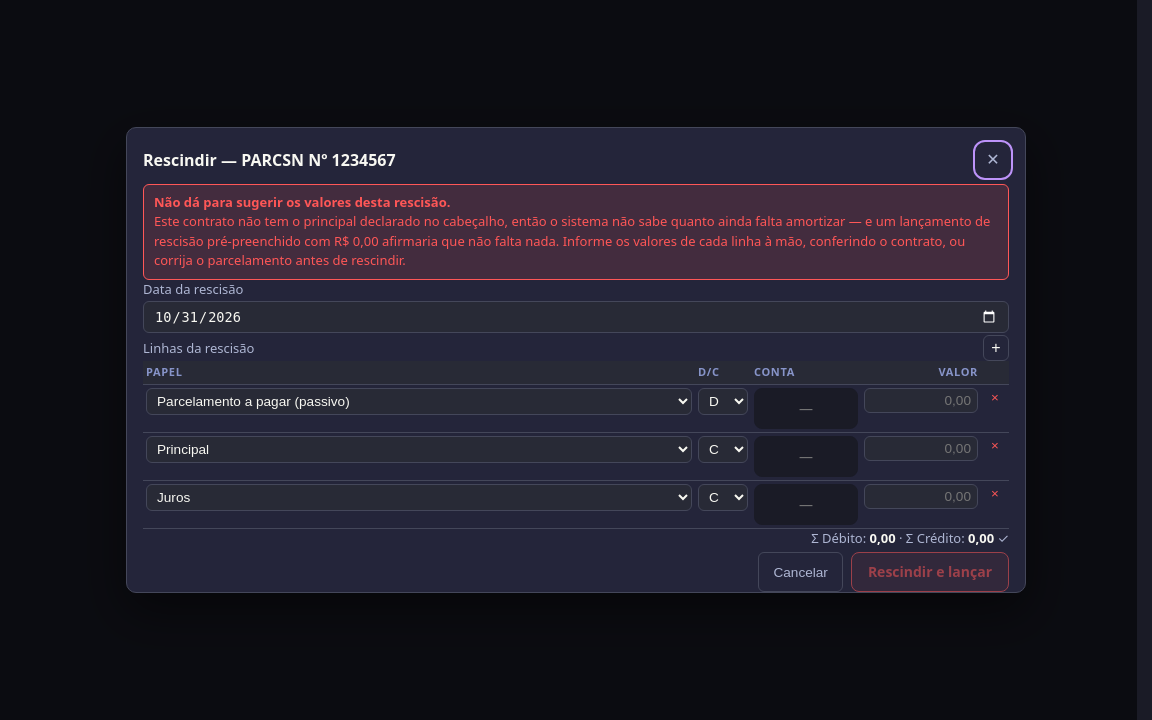
Test case: ⚠ o gate do botão › valor ilegível BLOQUEIA — antes ele virava 0 em silêncio
The width and height of the screenshot is (1152, 720).
Type "12.000" into the 1st field with placeholder "0,00" at (921, 400), box x1=864 y1=388 x2=978 y2=413
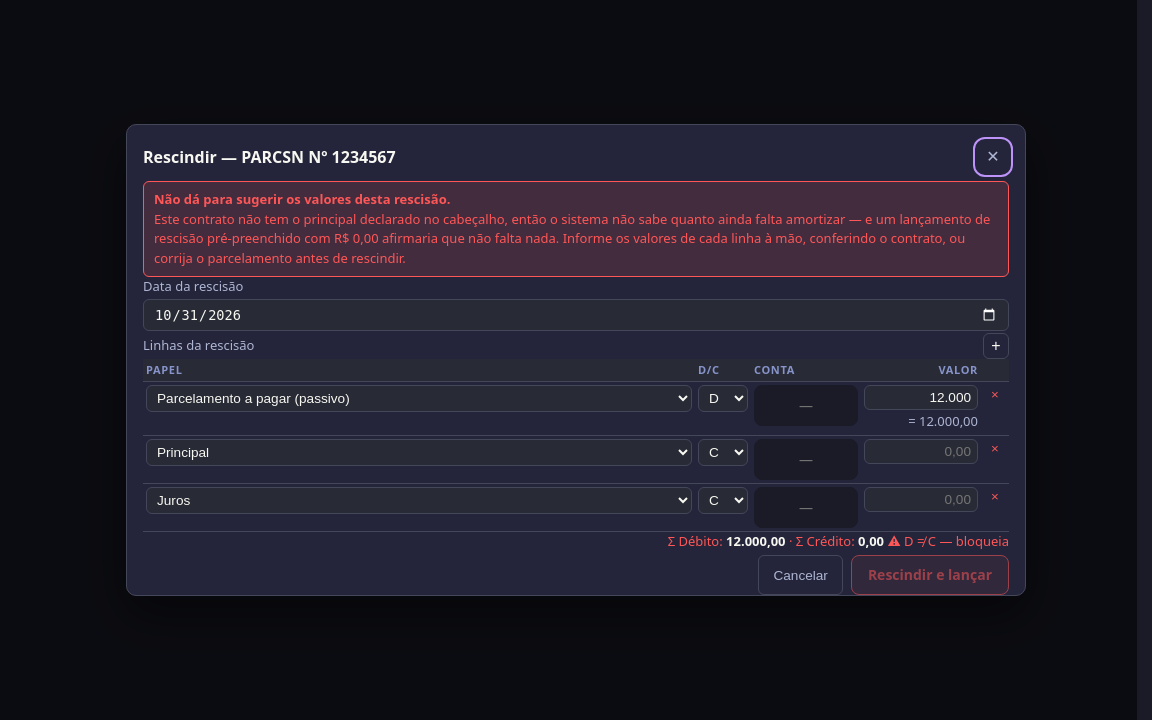
Type "10.000" into the 1st field with placeholder "0,00" at (921, 451), box x1=864 y1=438 x2=978 y2=464
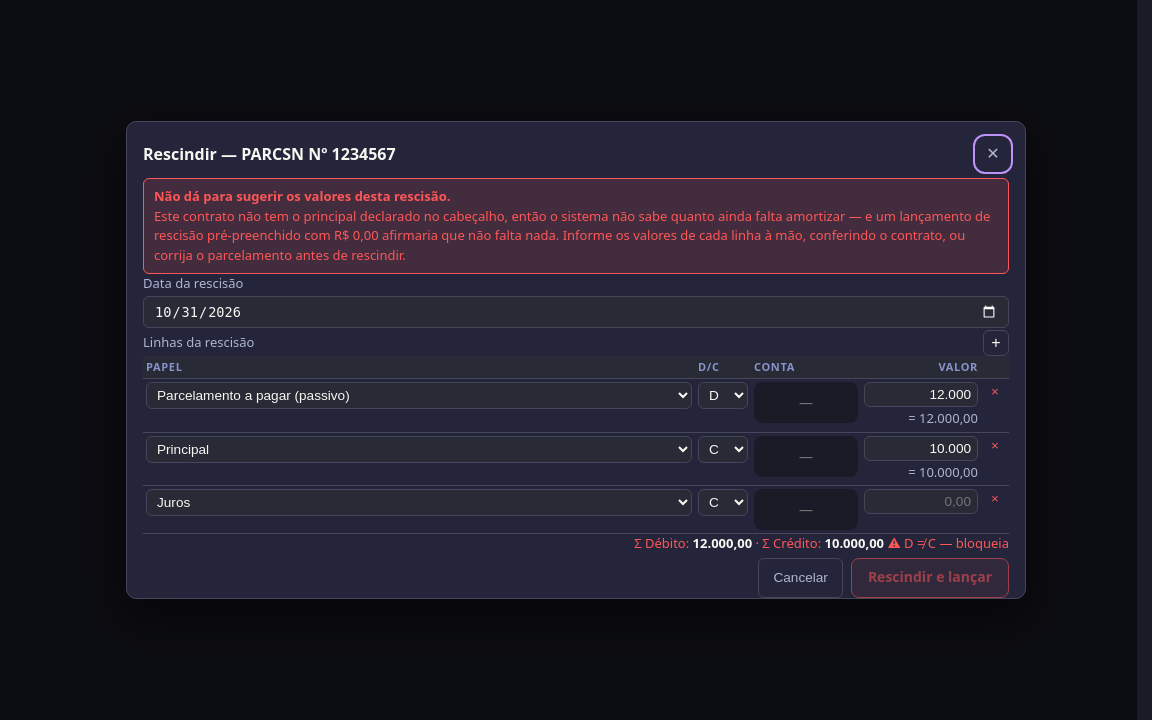
Type "2.000" into the field with placeholder "0,00" at (921, 502), box x1=864 y1=489 x2=978 y2=514
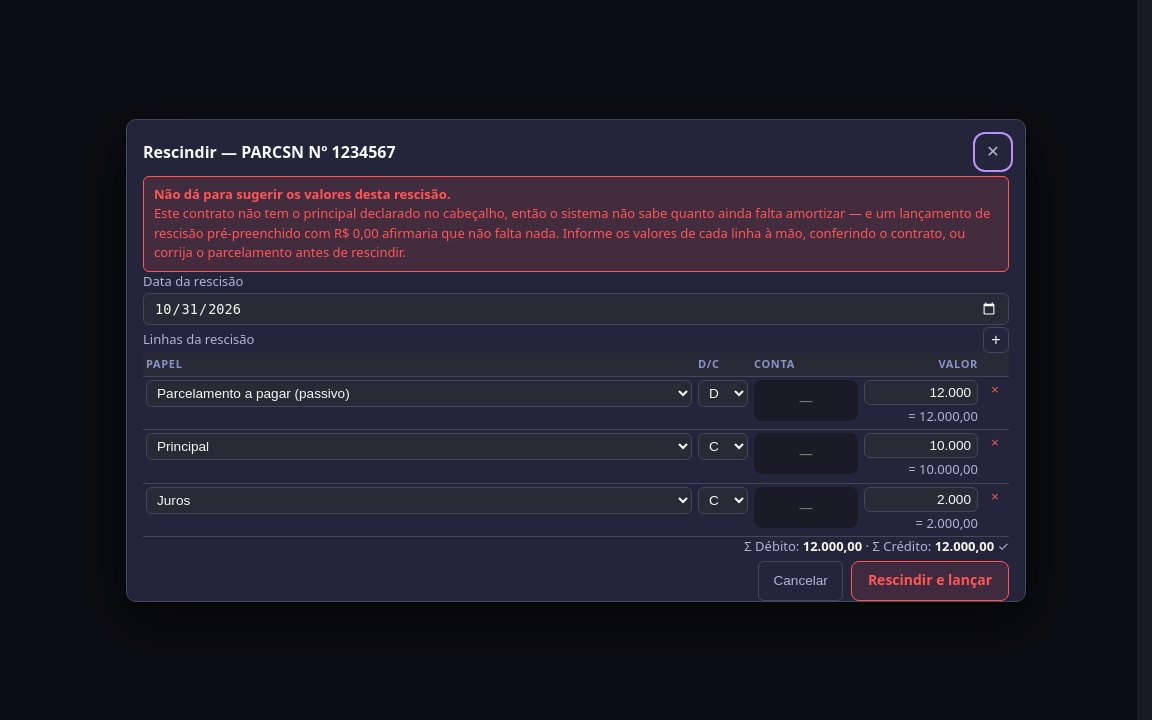
Check: the button "Rescindir e lançar" is enabled, box x1=851 y1=560 x2=1009 y2=600
Replace the text in the field named "Valor — Juros" with "abc" at (921, 499), box x1=864 y1=486 x2=978 y2=512
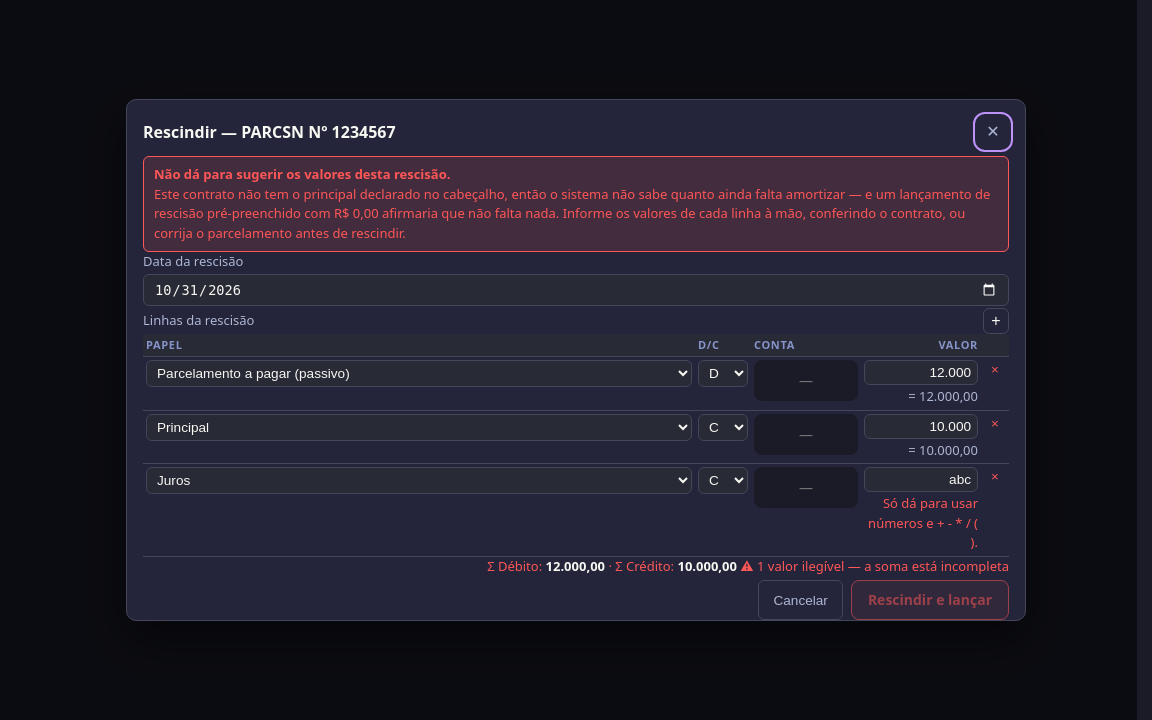
Check: the button "Rescindir e lançar" is disabled, box x1=851 y1=580 x2=1009 y2=620
